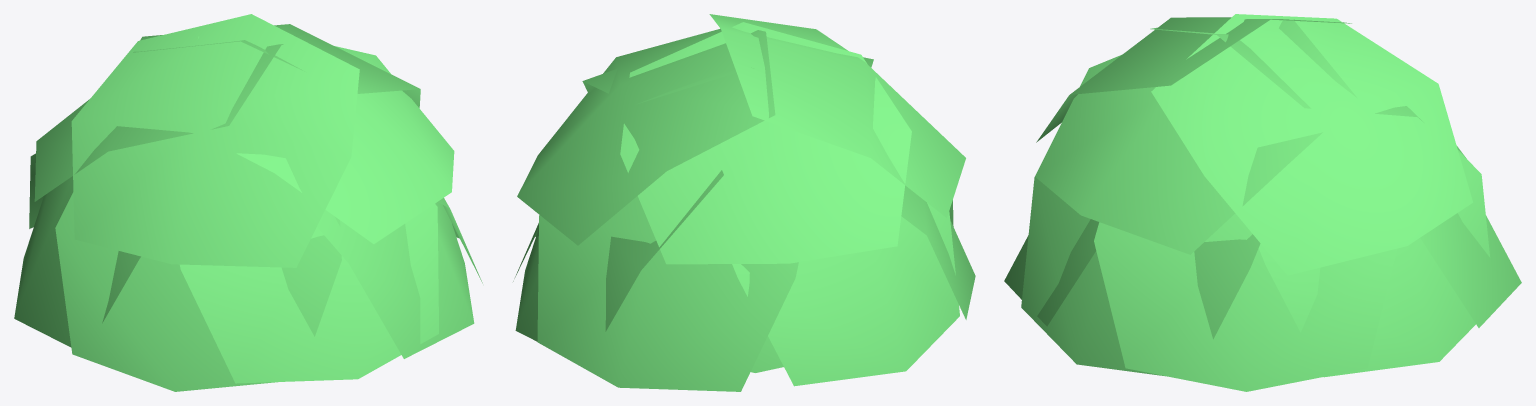
The model's file is Bush.fbx.
3 renders of one model, left to right at view 1: azimuth 30°, elevation 25°; view 2: azimuth 150°, elevation 25°; view 3: azimuth 270°, elevation 25°, orthographic. The views are drawn at different scales.
Parts seen in each view (by area): view 1: Plane258, Plane254, Plane255, Plane260, Plane253, Plane256, Plane257, Plane259, Plane250; view 2: Plane257, Plane250, Plane259, Plane256, Plane258, Plane251, Plane255, Plane260, Plane262; view 3: Plane259, Plane252, Plane260, Plane253, Plane251, Plane258, Plane250, Plane254, Plane257.
Boxes of the visible parts, x1,y1,x2,y2 form: Plane258: (71,14,359,267); Plane254: (180,204,438,383); Plane255: (55,192,341,391); Plane260: (198,36,454,243); Plane253: (317,202,474,358); Plane256: (14,176,140,347); Plane257: (34,33,308,201); Plane259: (133,24,420,108); Plane250: (29,153,43,228); Plane257: (620,22,911,264); Plane250: (537,196,798,391); Plane259: (517,28,775,245); Plane256: (732,203,959,386); Plane258: (709,14,965,217); Plane251: (515,170,723,341); Plane255: (901,185,975,319); Plane260: (582,57,873,103); Plane262: (750,336,783,372); Plane259: (1151,14,1472,275); Plane252: (1094,213,1397,391); Plane260: (1035,19,1357,254); Plane253: (1021,177,1260,376); Plane251: (1258,150,1490,377); Plane258: (1036,17,1351,142); Plane250: (1420,213,1521,327); Plane254: (1004,219,1099,326); Plane257: (1150,27,1466,158).
Bounding box in the file's own units: 42.13 × 27.09 × 44.72.
